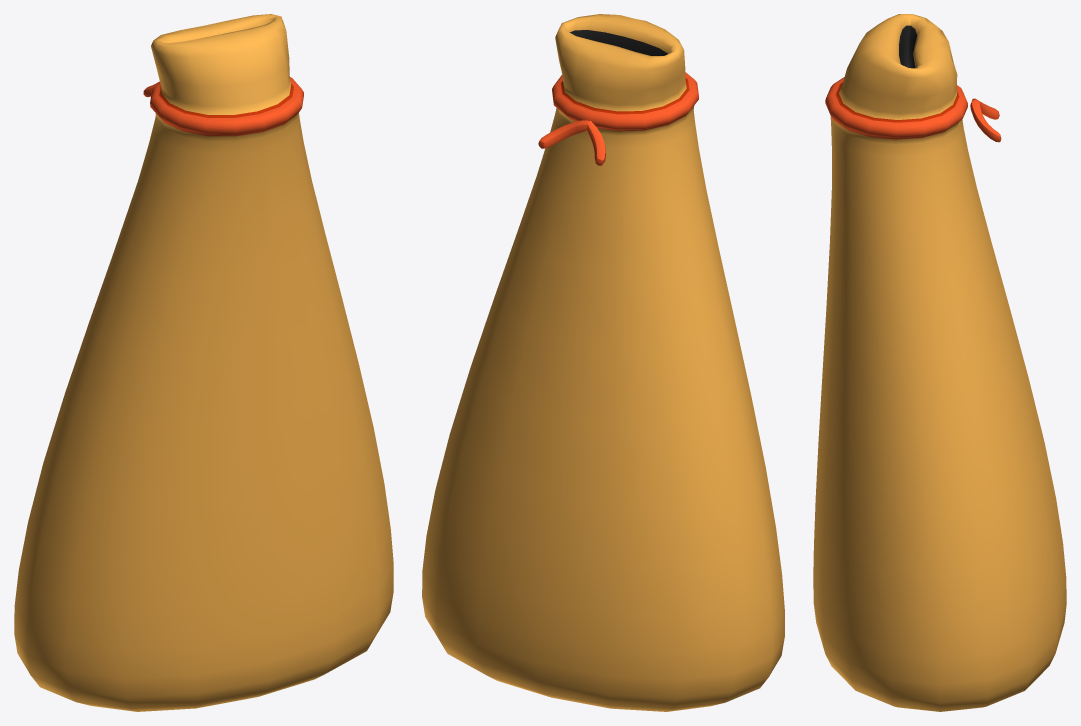
The model's file is bag.fbx.
3 views of the same model, side by side, from view 1: azimuth 30°, elevation 25°; view 2: azimuth 150°, elevation 25°; view 3: azimuth 270°, elevation 25° (orthographic). The views are drawn at different scales.
Visible parts, largest first — view 1: 立方体; view 2: 立方体; view 3: 立方体.
Boxes of the visible parts, x1,y1,x2,y2 form: 立方体: [14, 14, 393, 711]; 立方体: [422, 14, 784, 711]; 立方体: [813, 14, 1066, 711].
Size of the model in its own units: 40.49 by 71.75 by 26.66.
